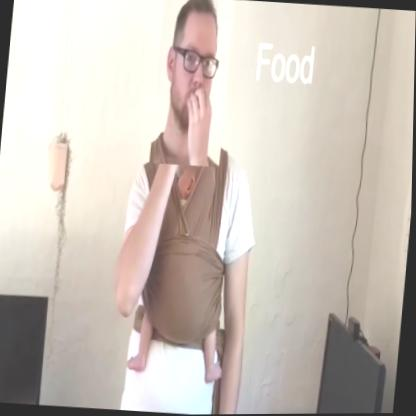Food: (150, 0, 234, 167)
